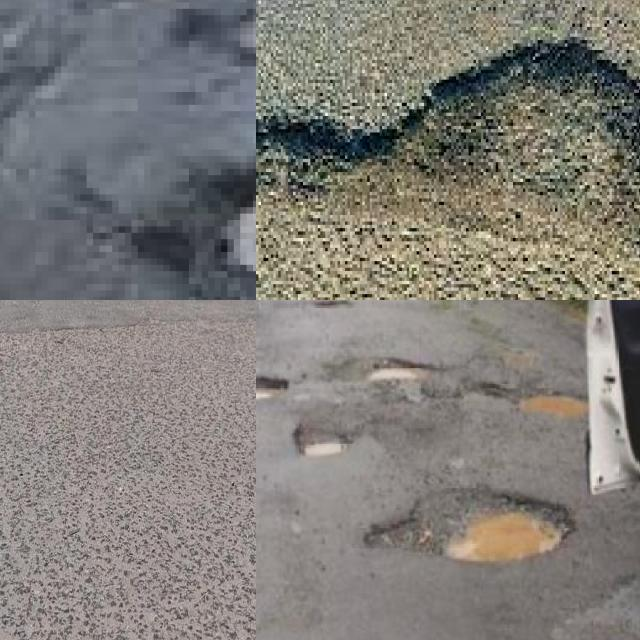Pothole: (256, 37, 640, 235), (364, 485, 576, 567), (292, 418, 355, 458), (516, 392, 589, 421), (370, 358, 436, 382), (256, 375, 290, 403)
